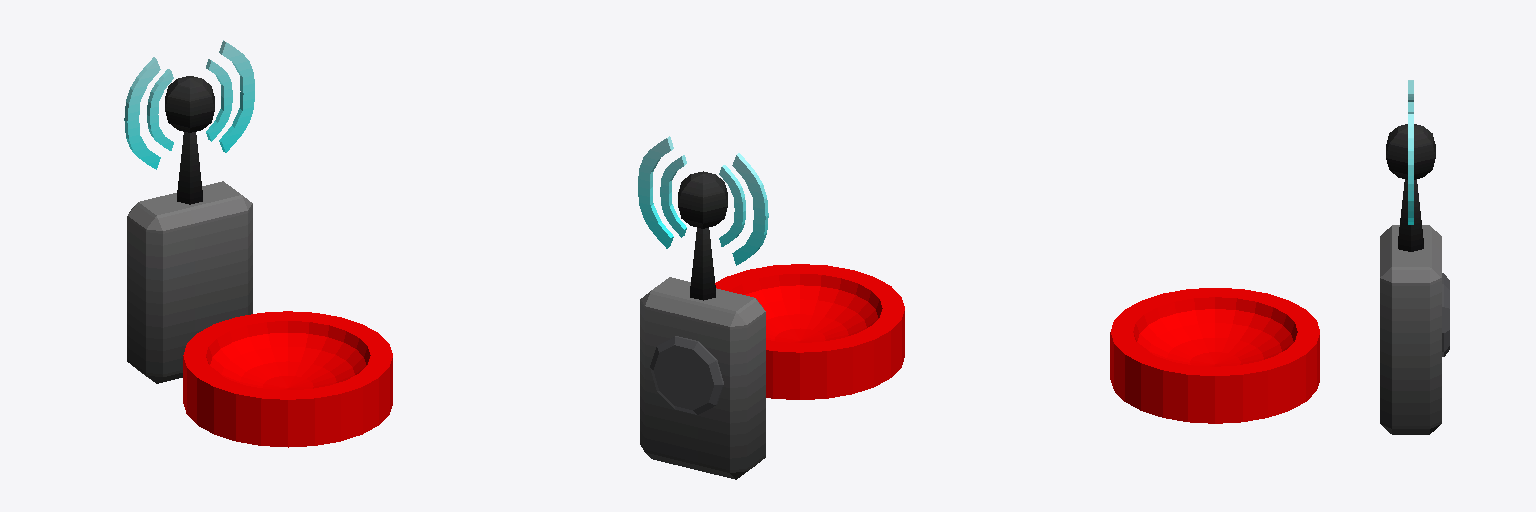
3 renders of one model, left to right at view 1: azimuth 30°, elevation 25°; view 2: azimuth 150°, elevation 25°; view 3: azimuth 270°, elevation 25°, orthographic.
Parts seen in each view (by area): view 1: Handle1, Output1; view 2: Handle1, Output1, Button1; view 3: Output1, Handle1, Button1.
Boxes of the visible parts, box(x1,y1,x2,y2) form: Handle1: box(124, 40, 254, 383); Output1: box(183, 311, 392, 447); Handle1: box(638, 136, 768, 479); Output1: box(715, 264, 904, 399); Button1: box(650, 336, 723, 414); Output1: box(1110, 288, 1319, 423); Handle1: box(1380, 80, 1441, 434); Button1: box(1442, 273, 1449, 356).
Bounding box in the file's own units: 0.6 × 1 × 0.9688.
Materials: 3 (1 with a texture image).